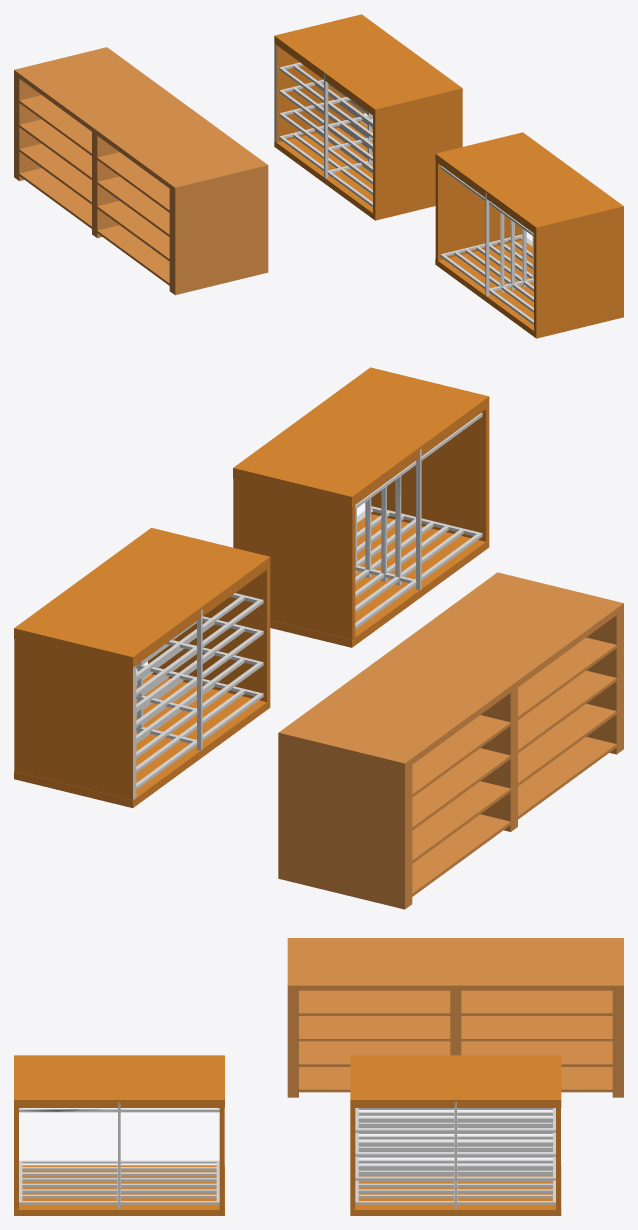
3 renders of one model, top to bottom at view 1: azimuth 30°, elevation 25°; view 2: azimuth 150°, elevation 25°; view 3: azimuth 270°, elevation 25°, orthographic. The views are drawn at different scales.
Visible parts, largest first — view 1: Cube, 立方体.001, 立方体; view 2: Cube, 立方体, 立方体.001; view 3: Cube, 立方体, 立方体.001.
Boxes of the visible parts, left/top/right/bottom form: Cube: left=14, top=47, right=268, bottom=295; 立方体.001: left=435, top=132, right=623, bottom=338; 立方体: left=274, top=14, right=462, bottom=220; Cube: left=278, top=572, right=623, bottom=909; 立方体: left=14, top=528, right=270, bottom=807; 立方体.001: left=233, top=367, right=489, bottom=647; Cube: left=287, top=938, right=623, bottom=1097; 立方体: left=350, top=1055, right=561, bottom=1215; 立方体.001: left=14, top=1055, right=224, bottom=1215.
Size of the model in its own units: 6.83 by 10.88 by 2.28.
